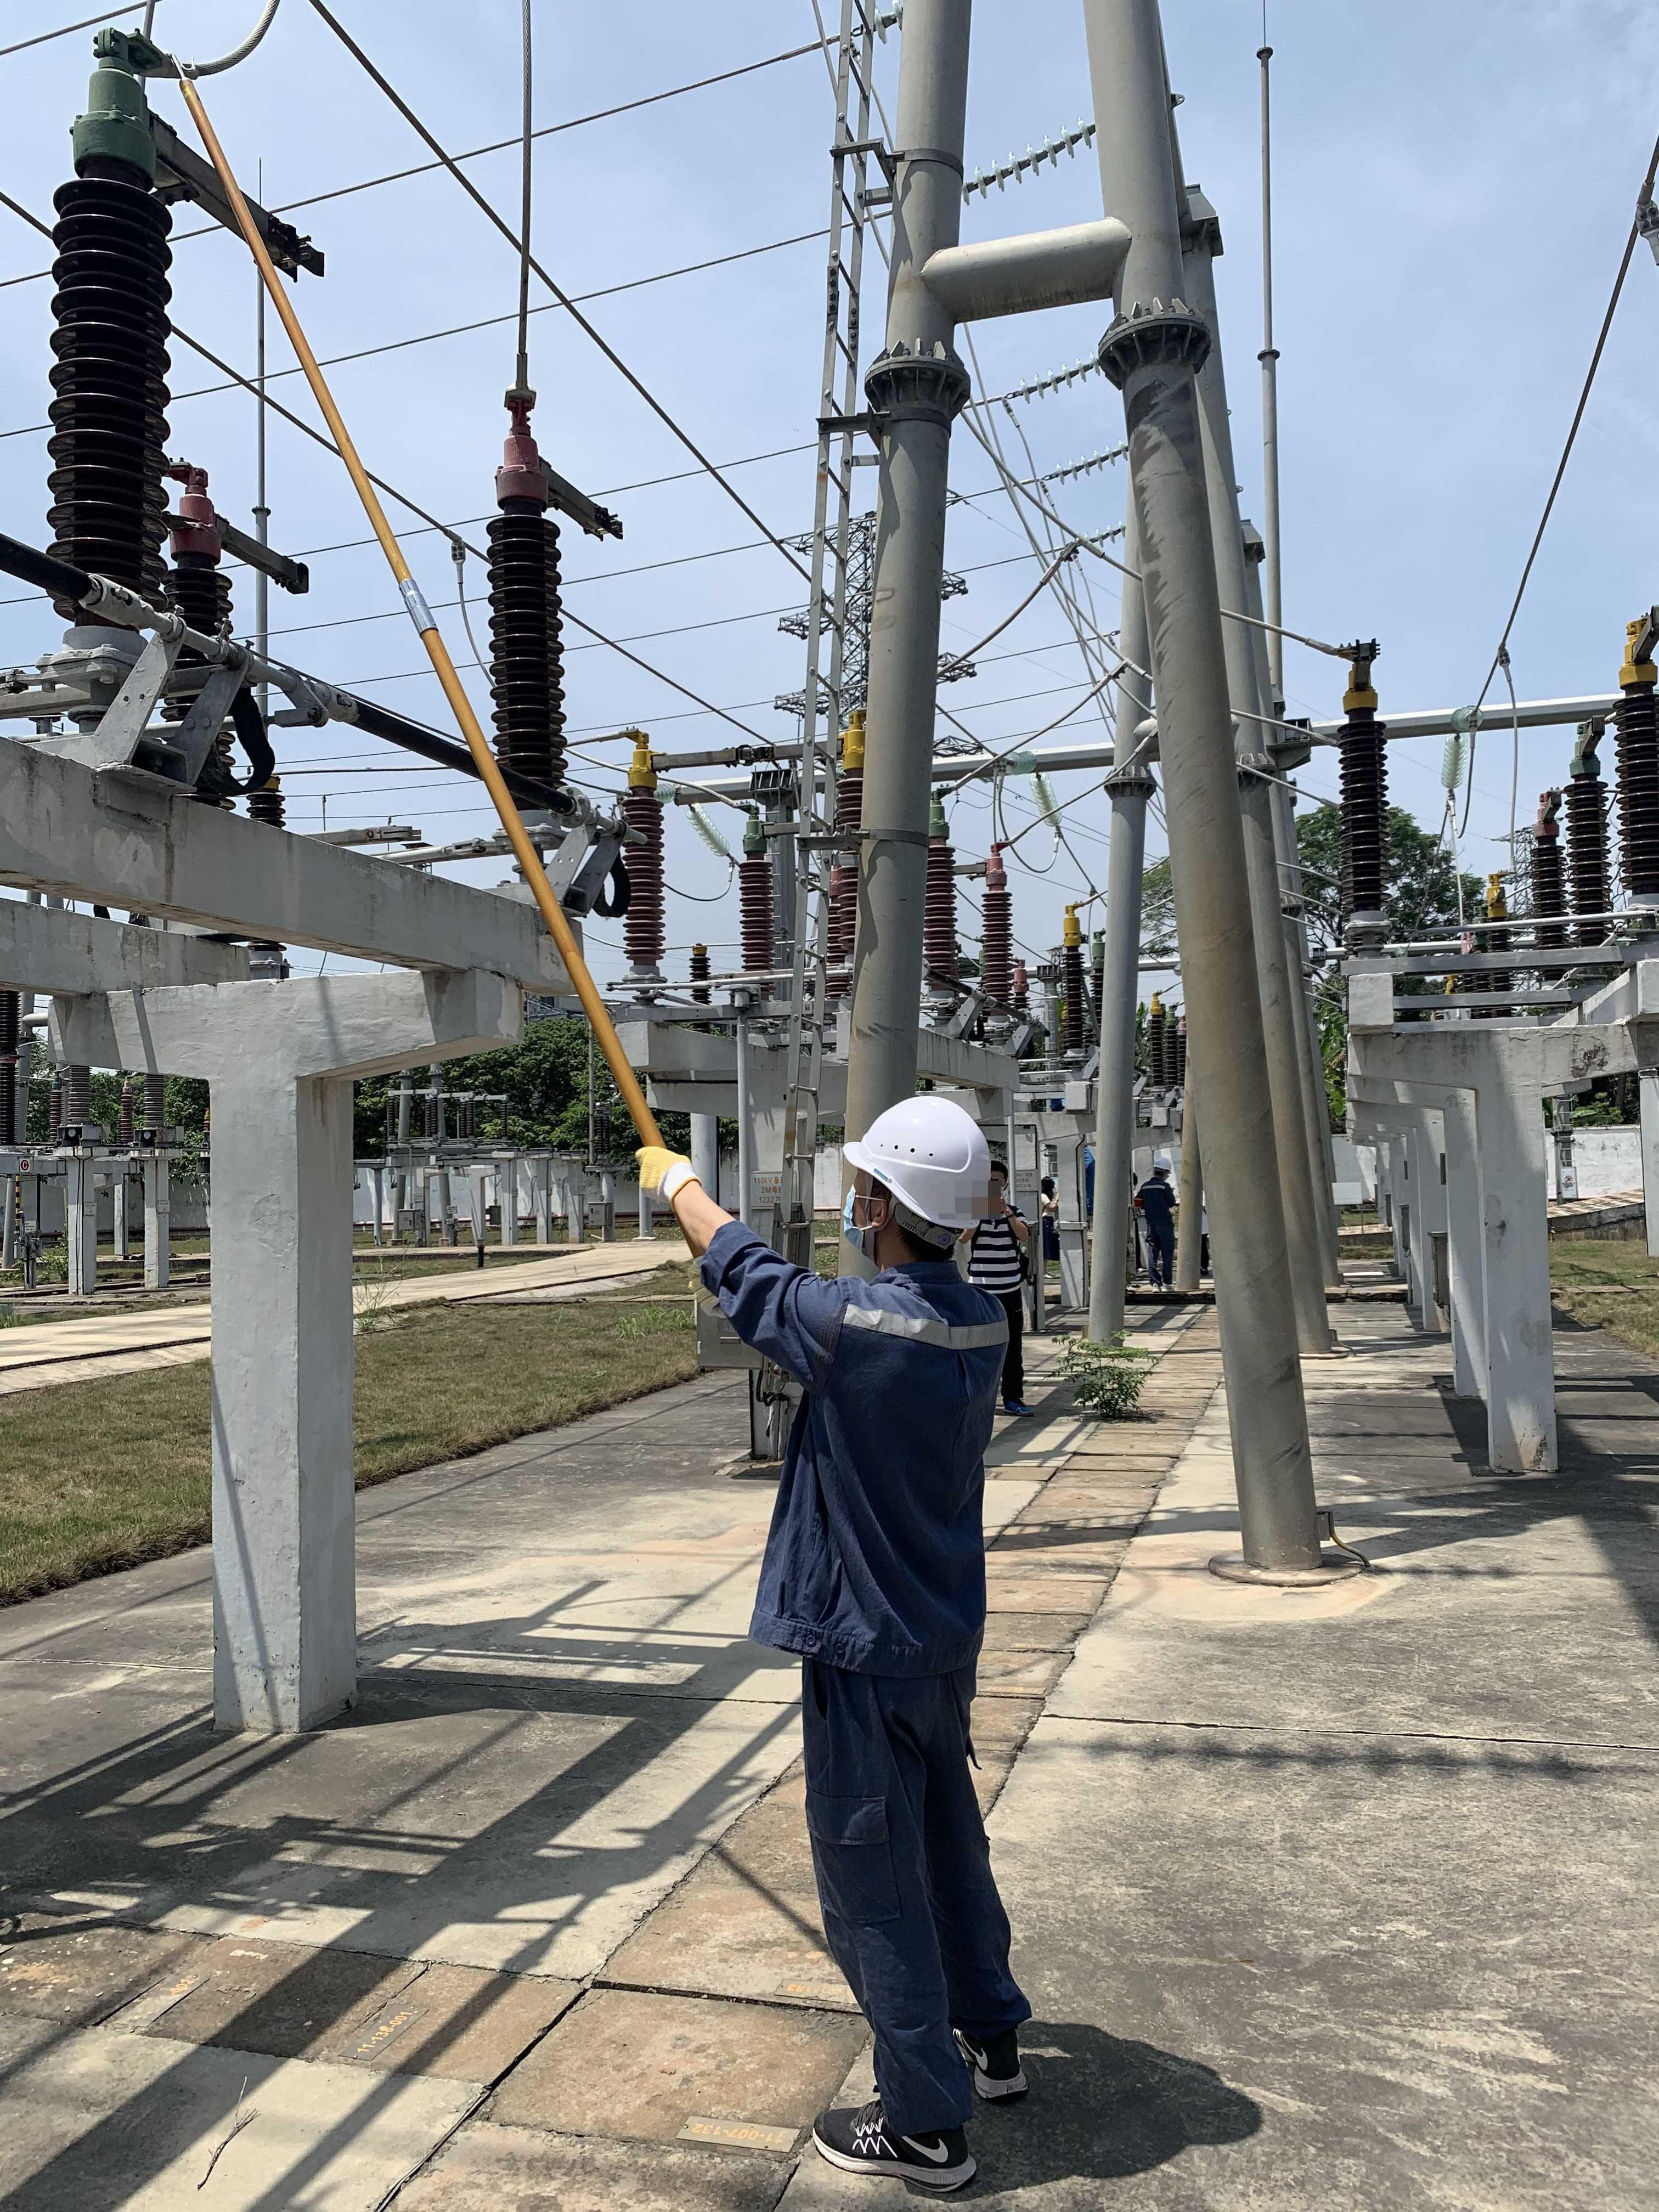downsuit: (789, 1702, 1033, 2125)
upsuit: (708, 1237, 1014, 1663)
wrongtop: (647, 1157, 748, 1263)
